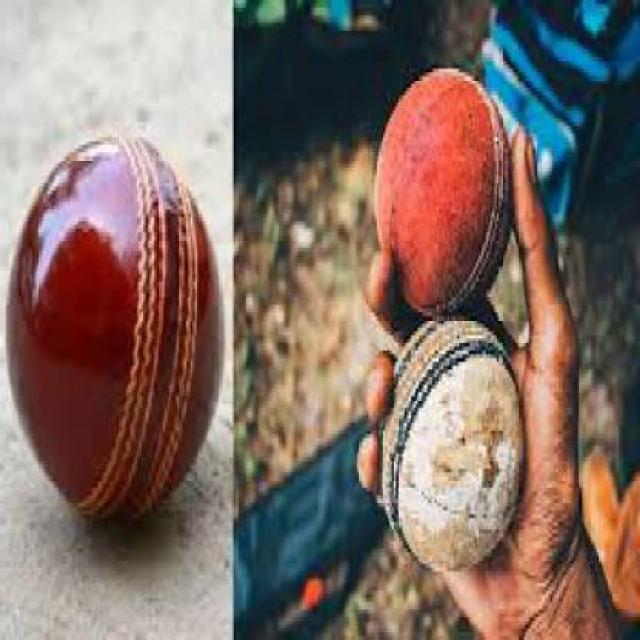ball: (0, 107, 233, 584)
